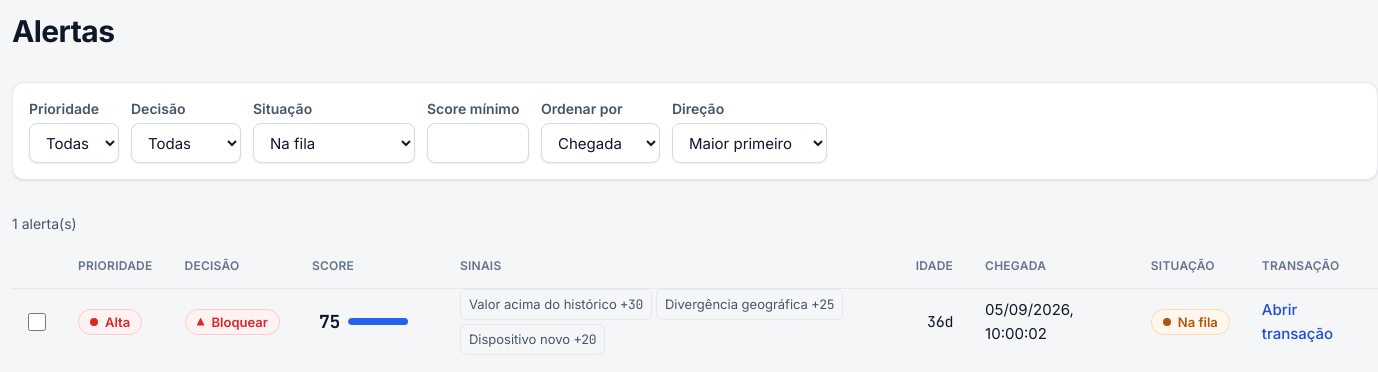
Test: fila de alertas › diz que está filtrando quando a fila filtrada fica vazia
Expected: the table is shown, [12, 212, 1377, 354]
Select "Média" in the dropdown labelled "Prioridade" at (74, 143), box [29, 123, 119, 163]
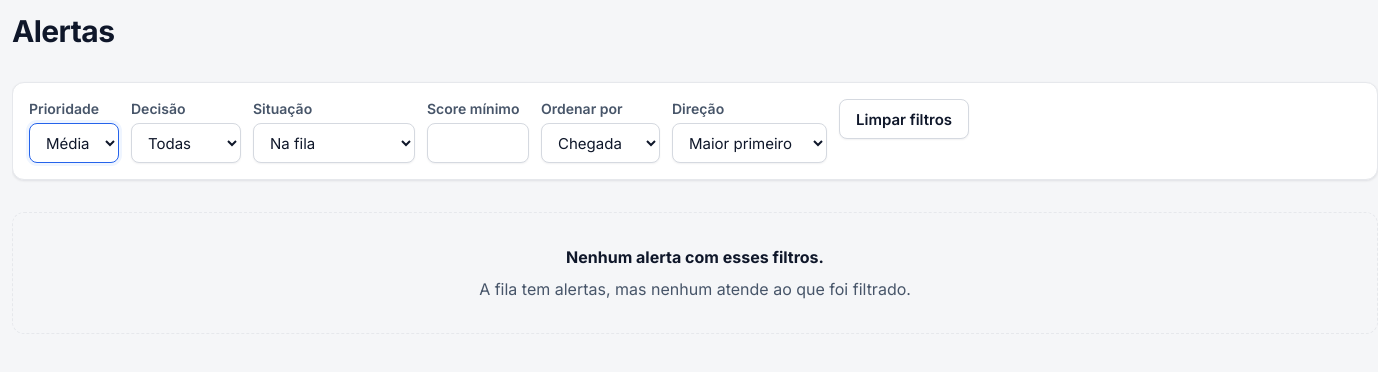
Expected: the text "Nenhum alerta com esses filtros." is shown, [566, 245, 824, 269]
